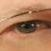eye: (20, 23, 36, 33)
